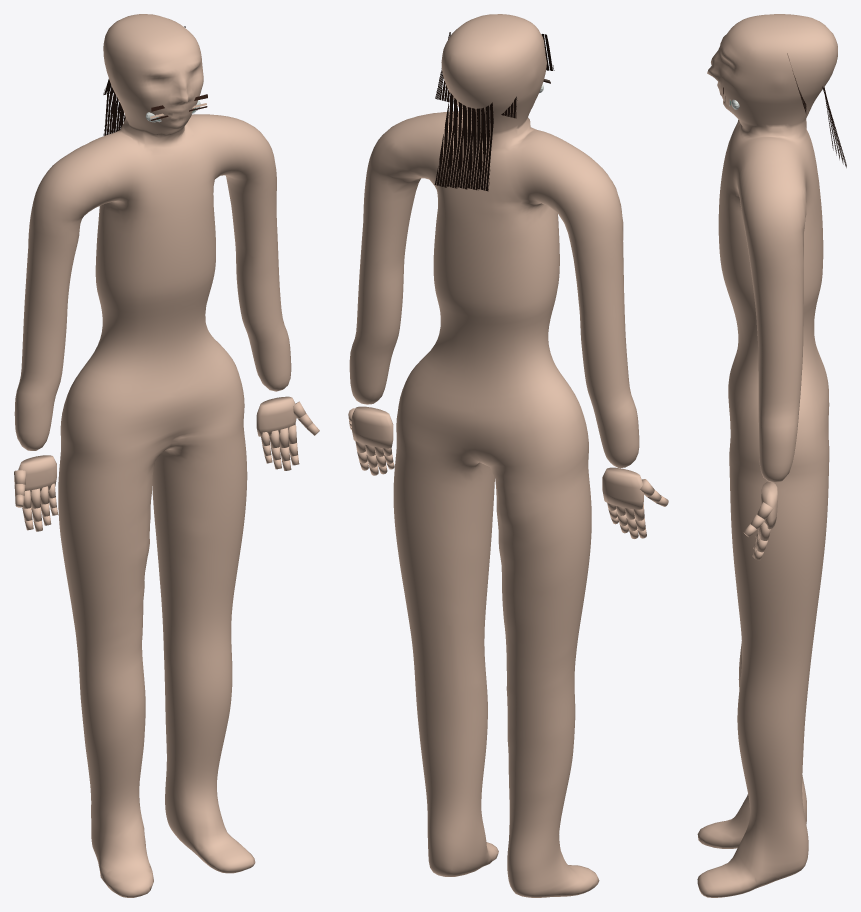
The model's file is heroi_julia_fase3.glb.
3 renders of one model, left to right at view 1: azimuth 30°, elevation 25°; view 2: azimuth 150°, elevation 25°; view 3: azimuth 270°, elevation 25°, orthographic. The views are drawn at different scales.
Parts seen in each view (by area): view 1: JuliaBase; view 2: JuliaBase, rabo_mecha_5, rabo_mecha_1, rabo_mecha_2, rabo_mecha_4, rabo_mecha_3; view 3: JuliaBase.
Part boxes in pixels (x1,y1,x2,y2): JuliaBase: (14,14,319,897); JuliaBase: (348,14,668,897); rabo_mecha_5: (434,92,456,187); rabo_mecha_1: (477,102,493,191); rabo_mecha_2: (467,107,484,190); rabo_mecha_4: (446,102,465,188); rabo_mecha_3: (456,107,475,189); JuliaBase: (697,14,837,897).
Bounding box in the file's own units: 0.6556 × 1.72 × 0.2743.
Materials: 6 (1 with a texture image).
